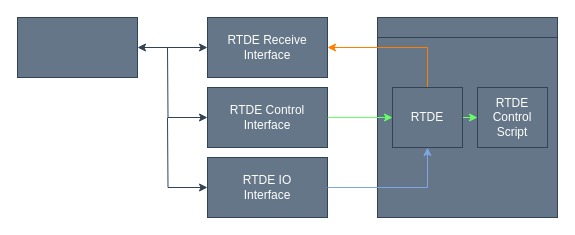
The diagram is 575 pixels wide and 235 high, and some of its shapes have lost their labels. The box of each missing label's shape, as (x1, y1, x2, y2) in pixels:
UR Robot: (376, 16, 558, 38)
User Application C++ / Python: (16, 16, 138, 78)
